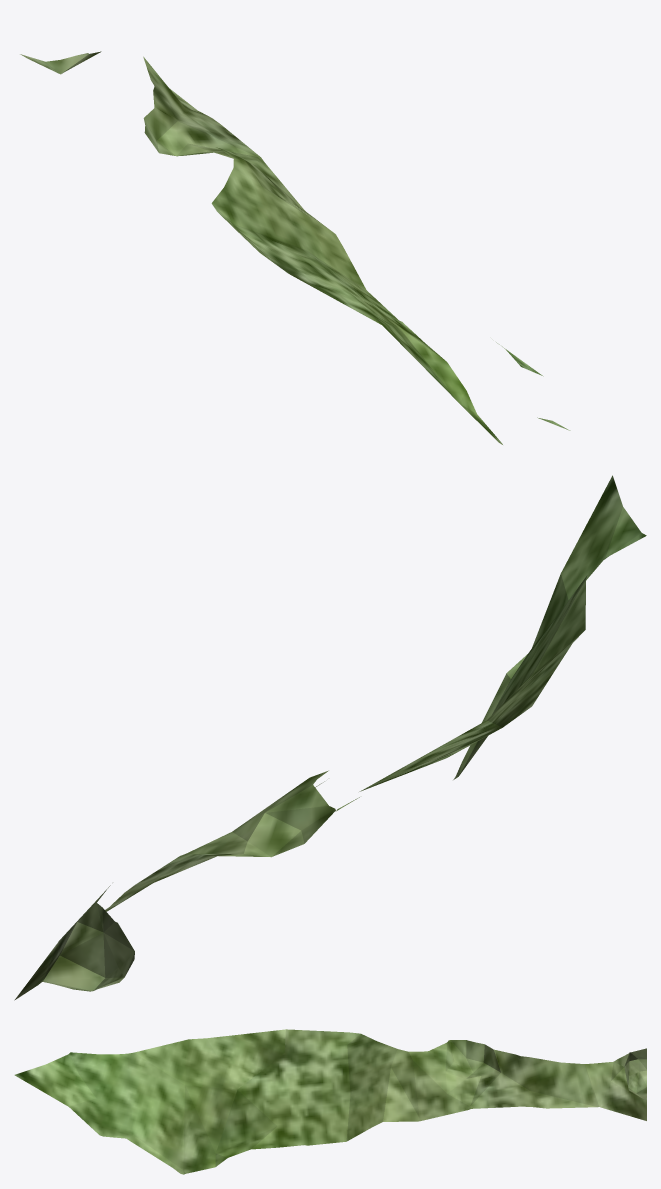
3 renders of one model, top to bottom at view 1: azimuth 30°, elevation 25°; view 2: azimuth 150°, elevation 25°; view 3: azimuth 270°, elevation 25°, orthographic. The views are drawn at different scales.
Bounding box in the file's own units: 0.4567 × 0.4653 × 2.68.
Materials: 1 (1 with a texture image).
